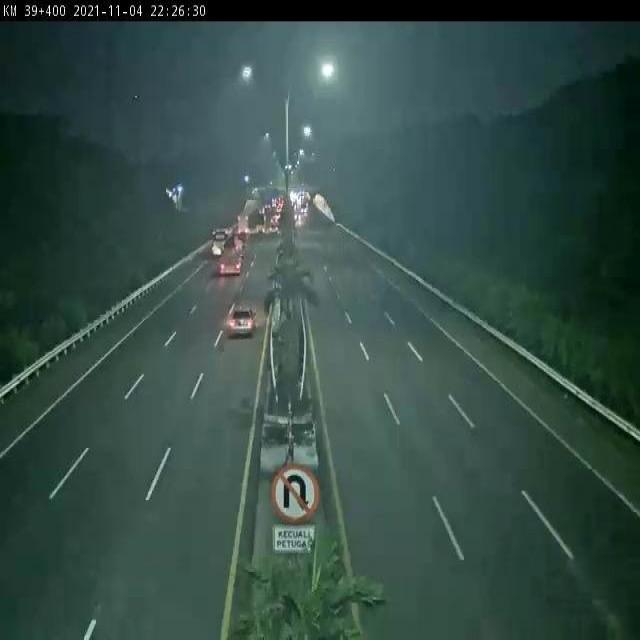bus-l-: (203, 217, 232, 267)
car: (207, 288, 265, 351)
truck-xl-: (209, 237, 250, 284)
